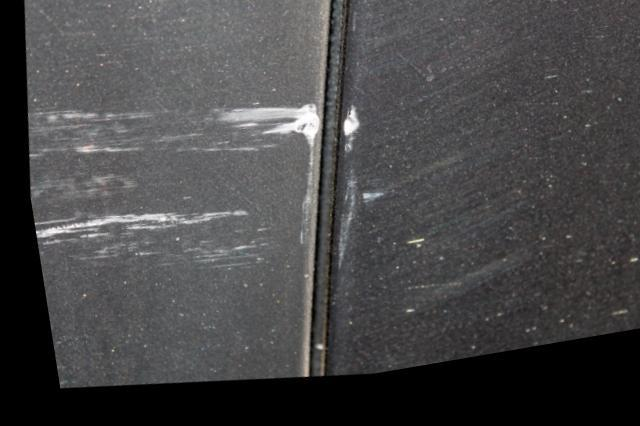scratch: (24, 111, 320, 278), (322, 113, 375, 285)
